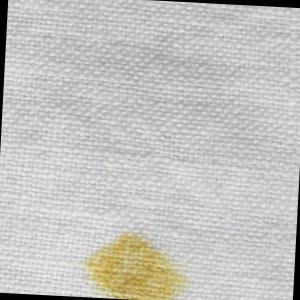Oil Stain: (77, 225, 201, 300)
